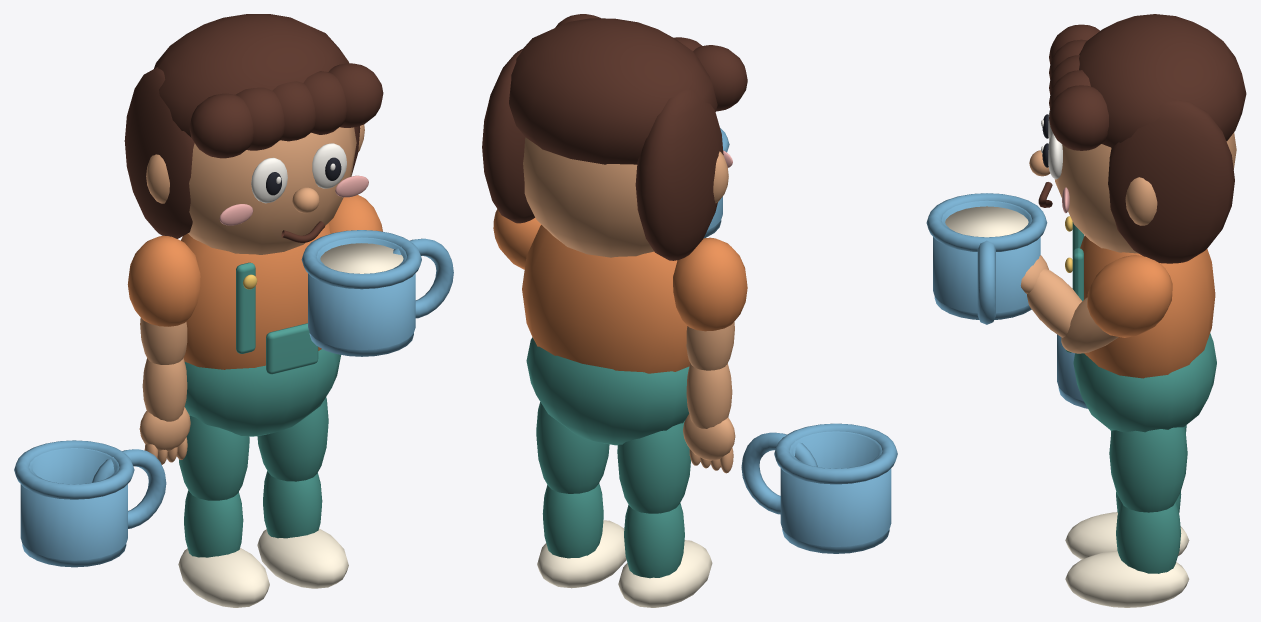
File: ava-need-thirsty.glb
The picture shows the model from 3 angles, left to right: view 1: azimuth 30°, elevation 25°; view 2: azimuth 150°, elevation 25°; view 3: azimuth 270°, elevation 25°; orthographic projection. The views are drawn at different scales.
Visible parts, largest first — view 1: hair cap, clay head, soft shirt, hollow cup wall.001, overalls, bob hair, hollow cup wall, shirt sleeve, trouser leg, little shoe.001, little shoe, trouser leg.001 (+23 smaller); view 2: hair cap, soft shirt, bob hair, overalls, clay head, hollow cup wall.001, shirt sleeve, trouser leg, bob hair.001, trouser leg.001, lower leg, lower leg.001 (+11 smaller); view 3: bob hair.001, hair cap, soft shirt, overalls, trouser leg.001, hollow cup wall, shirt sleeve.001, clay head, little shoe.001, lower leg.001, fringe.004, cup rim (+15 smaller).
Boxes of the visible parts, x1,y1,x2,y2 form: hair cap: (154, 14, 348, 136); clay head: (188, 127, 356, 254); soft shirt: (181, 223, 330, 369); hollow cup wall.001: (20, 448, 127, 560); overalls: (184, 349, 340, 436); bob hair: (124, 67, 194, 238); hollow cup wall: (308, 237, 415, 349); shirt sleeve: (127, 235, 200, 326); trouser leg: (179, 415, 249, 500); little shoe.001: (257, 528, 348, 588); little shoe: (178, 548, 269, 607); trouser leg.001: (257, 397, 328, 481); hair cap: (509, 18, 717, 164); soft shirt: (522, 225, 690, 373); bob hair: (635, 89, 723, 260); overalls: (526, 337, 689, 445); clay head: (523, 137, 653, 257); hollow cup wall.001: (780, 431, 891, 546); shirt sleeve: (673, 237, 747, 331); trouser leg: (617, 421, 690, 513); bob hair.001: (482, 48, 534, 223); trouser leg.001: (536, 402, 609, 493); lower leg: (624, 503, 684, 578); lower leg.001: (542, 483, 603, 558); bob hair.001: (1108, 100, 1234, 263); hair cap: (1079, 14, 1246, 147); soft shirt: (1080, 235, 1215, 378); overalls: (1073, 333, 1216, 432); trouser leg.001: (1109, 427, 1187, 512); hollow cup wall: (933, 200, 1040, 313); shirt sleeve.001: (1087, 255, 1172, 337); clay head: (1054, 132, 1236, 253); little shoe.001: (1065, 550, 1189, 607); lower leg.001: (1116, 502, 1181, 573); fringe.004: (1049, 85, 1108, 150); cup rim: (926, 193, 1047, 251).
Size of the model in its own units: 1.31 by 1.87 by 0.98.
